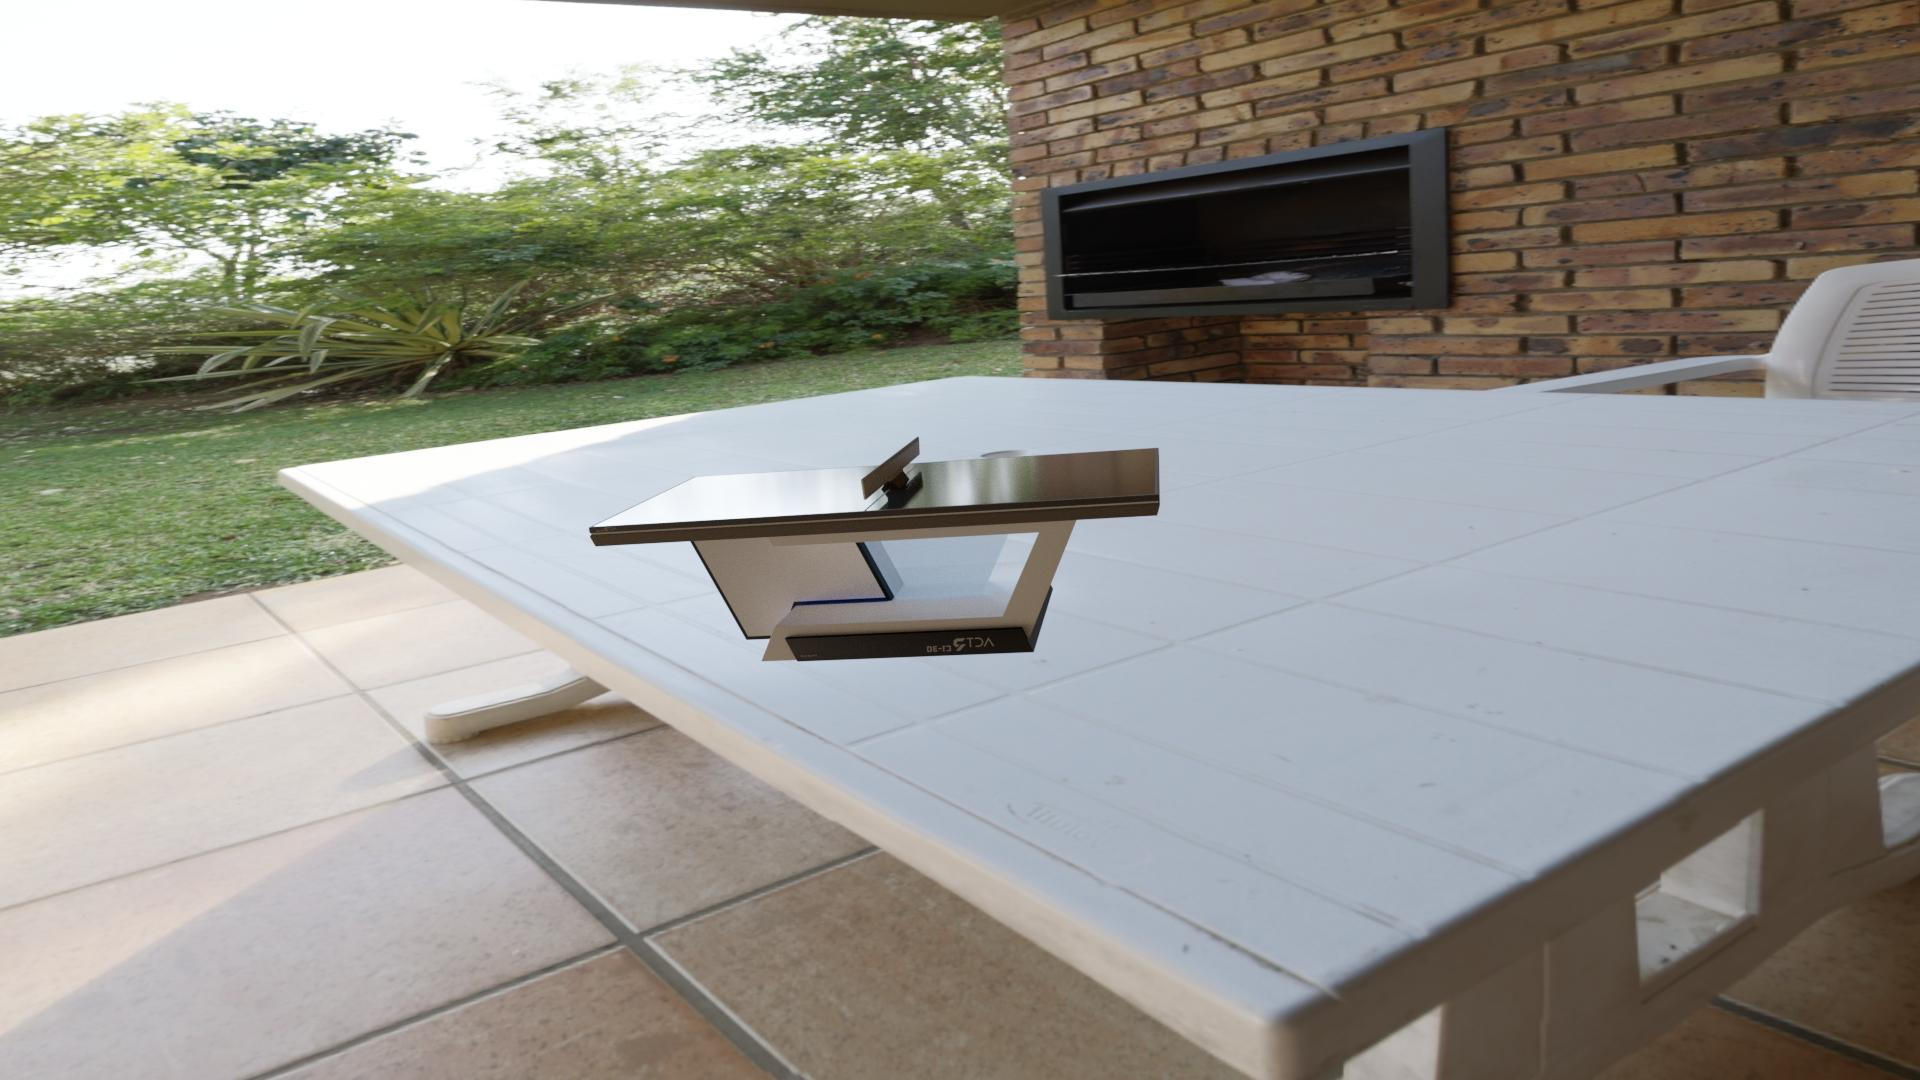table: (593, 448, 1155, 526)
